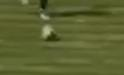ball: (39, 22, 60, 42)
